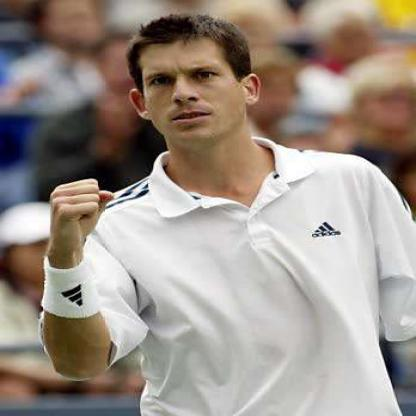face: (136, 17, 246, 149)
